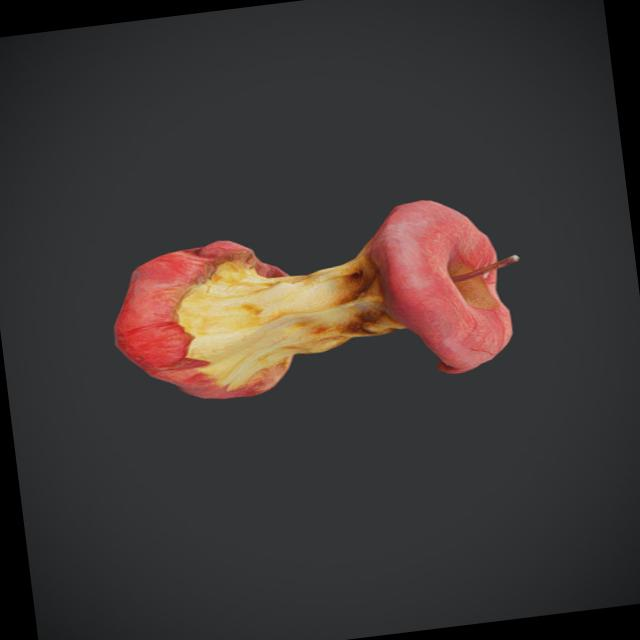apple_fruit: (88, 193, 538, 406)
